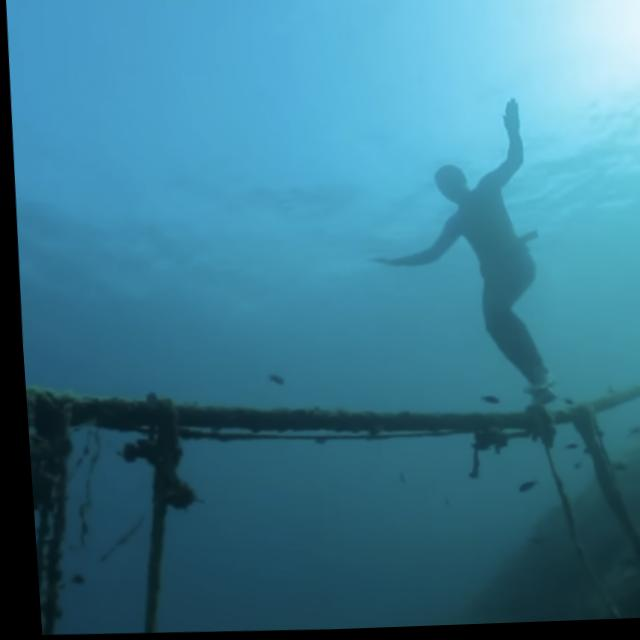human: (350, 95, 574, 419)
